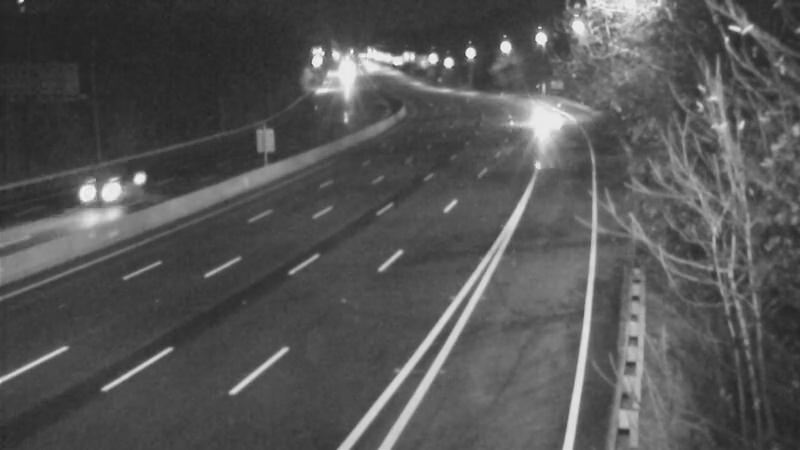vehicle: (64, 144, 144, 224), (521, 95, 571, 145)
